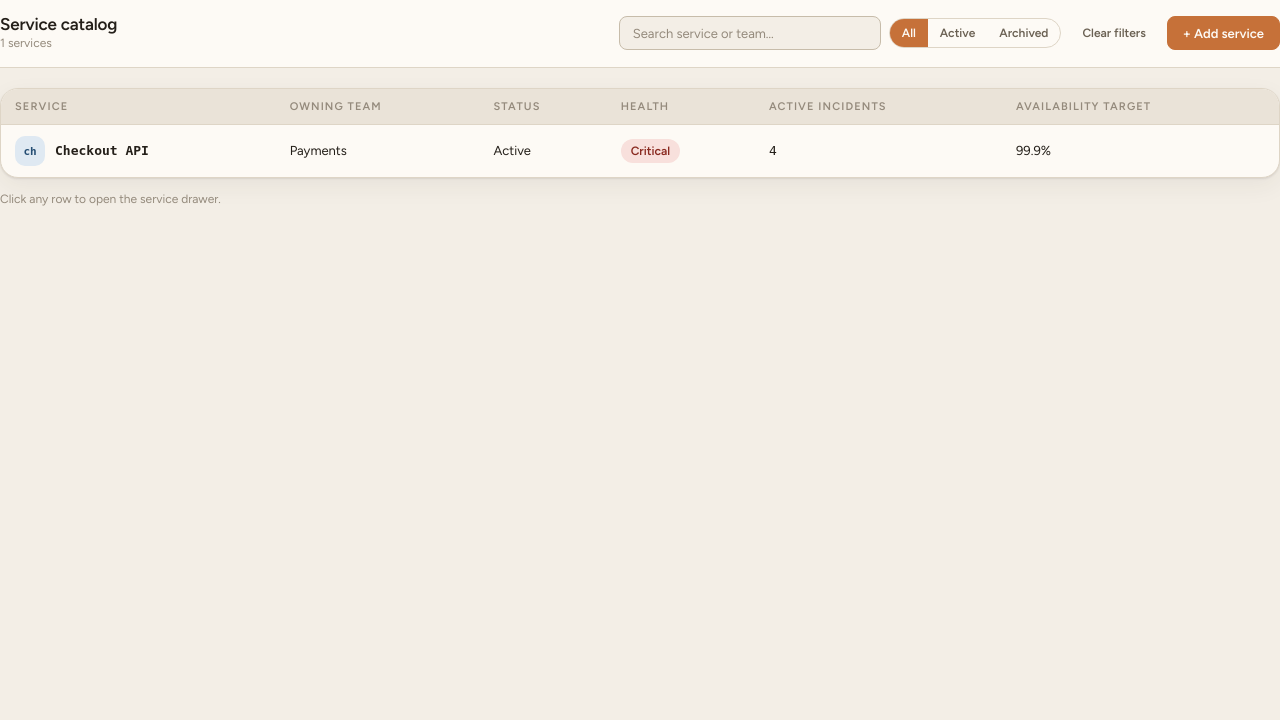
Test: ServicesPage › shows the same health in the table and the drawer for one service
The width and height of the screenshot is (1280, 720).
Click the text "Checkout API" at (640, 151), box [1, 124, 1279, 177]
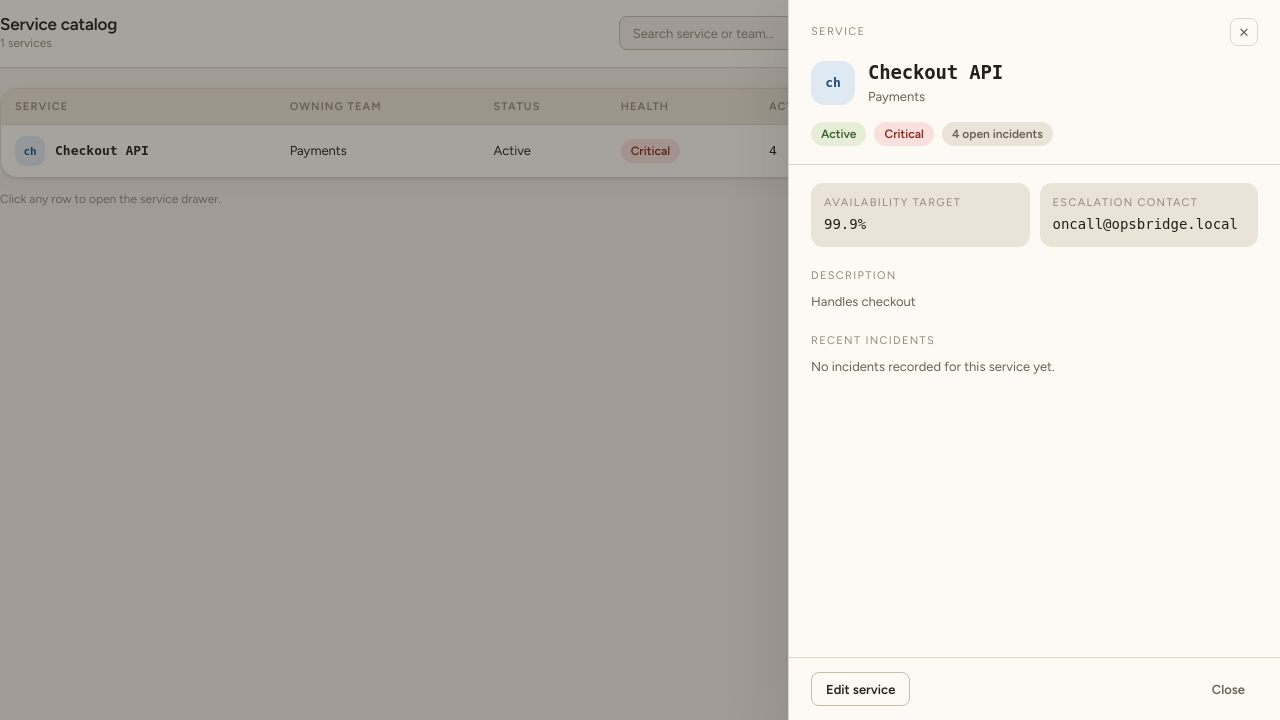
Expected: the text "Handles checkout" is shown, [811, 294, 916, 309]
Expected: the text "Critical" is shown 2 times, [621, 139, 680, 163]; [874, 122, 934, 146]
